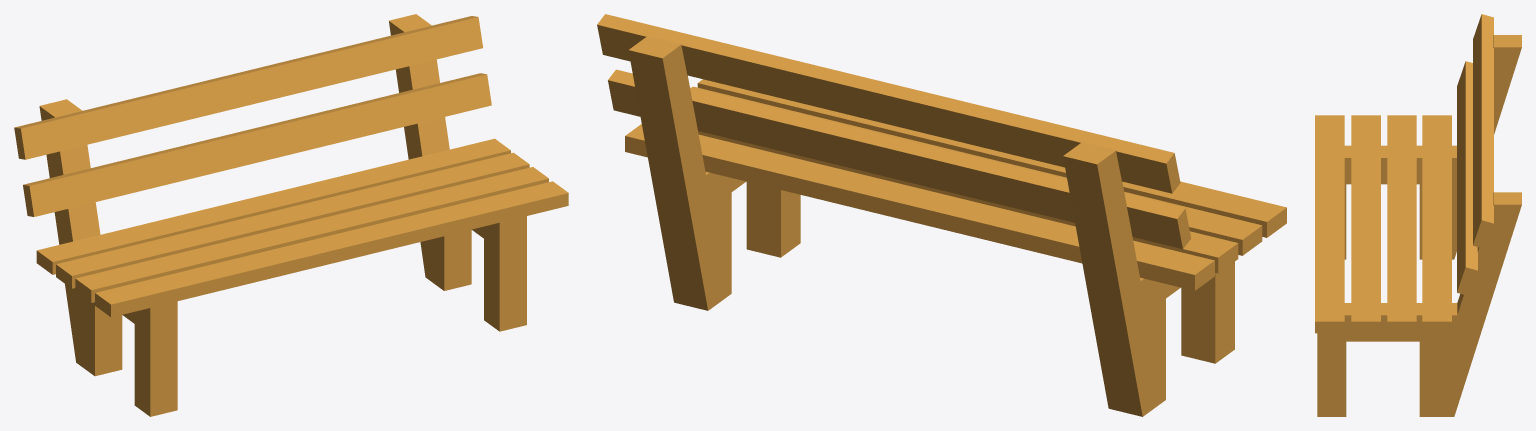
File: bench-old.fbx
3 views of the same model, side by side, from view 1: azimuth 30°, elevation 25°; view 2: azimuth 150°, elevation 25°; view 3: azimuth 270°, elevation 25° (orthographic). The views are drawn at different scales.
Visible parts, largest first — view 1: bench-old; view 2: bench-old; view 3: bench-old.
Boxes of the visible parts, x1=… form: bench-old: x1=14, y1=14, x2=568, y2=416; bench-old: x1=597, y1=14, x2=1286, y2=416; bench-old: x1=1315, y1=14, x2=1521, y2=416.
Size of the model in its own units: 1.67 by 0.8109 by 0.7073.
